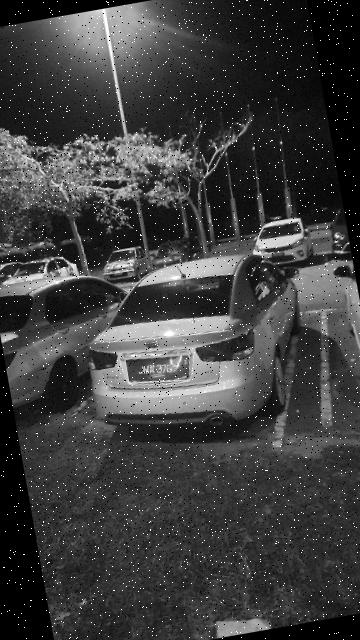License_Plate: (125, 349, 197, 393)
car: (74, 241, 326, 449), (1, 264, 149, 417), (248, 214, 318, 275)
